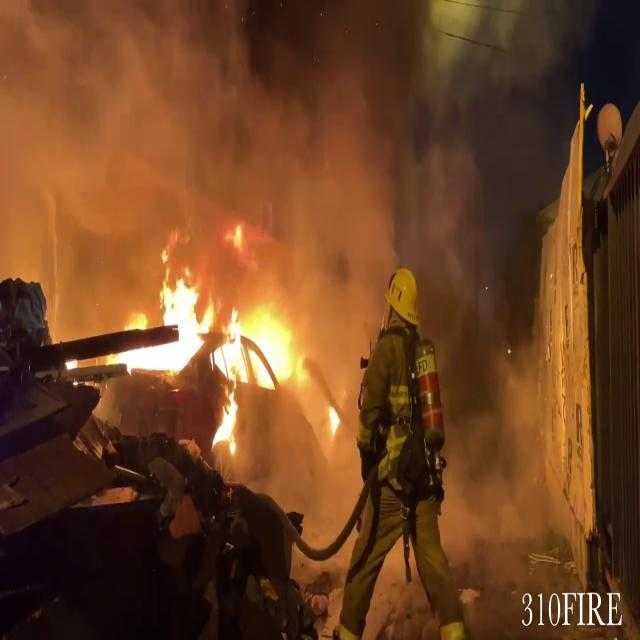Fire: (110, 260, 312, 442)
Smoke: (0, 4, 583, 312)
